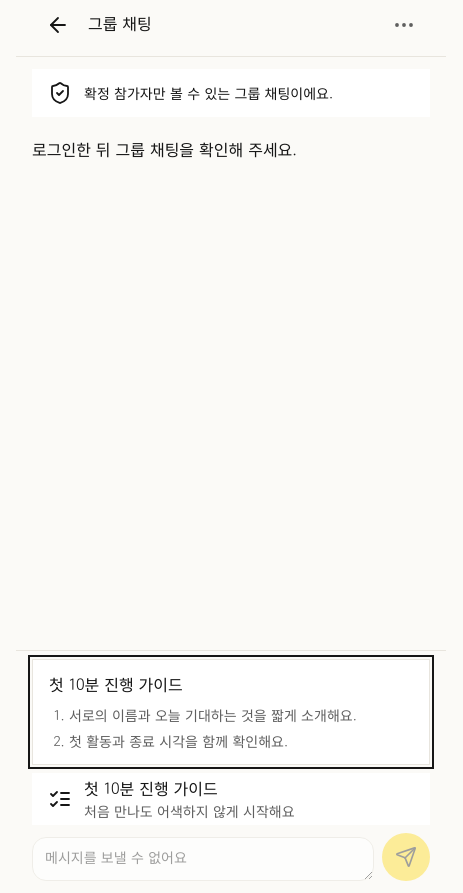
MeetupChatPage › clears the deep-link target when the guide is manually closed
Expected: the element "첫 10분 진행 가이드" is shown, [32,659,430,765]
Click the button "첫 10분 진행 가이드 처음 만나도 어색하지 않게 시작해요": (231, 799) [32,773,430,825]
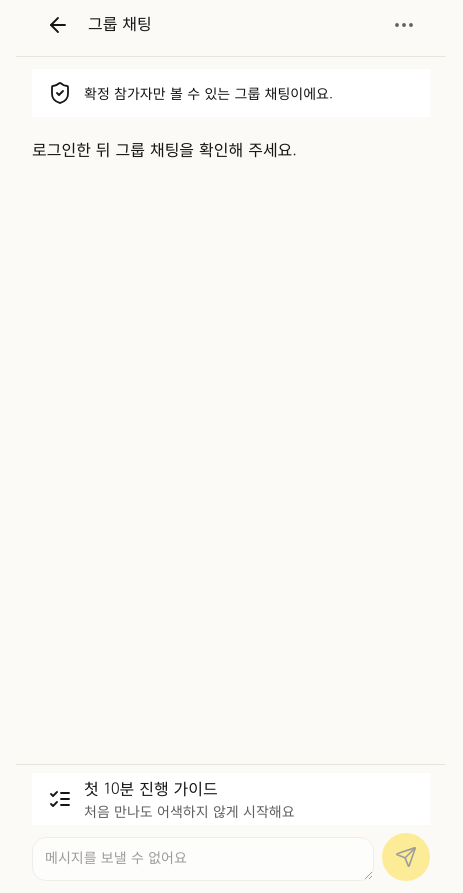
Click the button "첫 10분 진행 가이드 처음 만나도 어색하지 않게 시작해요": (231, 799) [32,773,430,825]
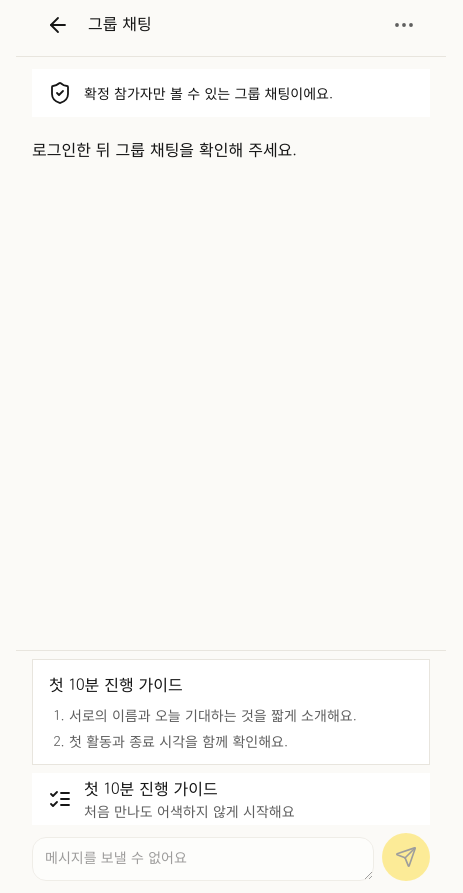
Expected: the element "첫 10분 진행 가이드" is shown, [32,659,430,765]
